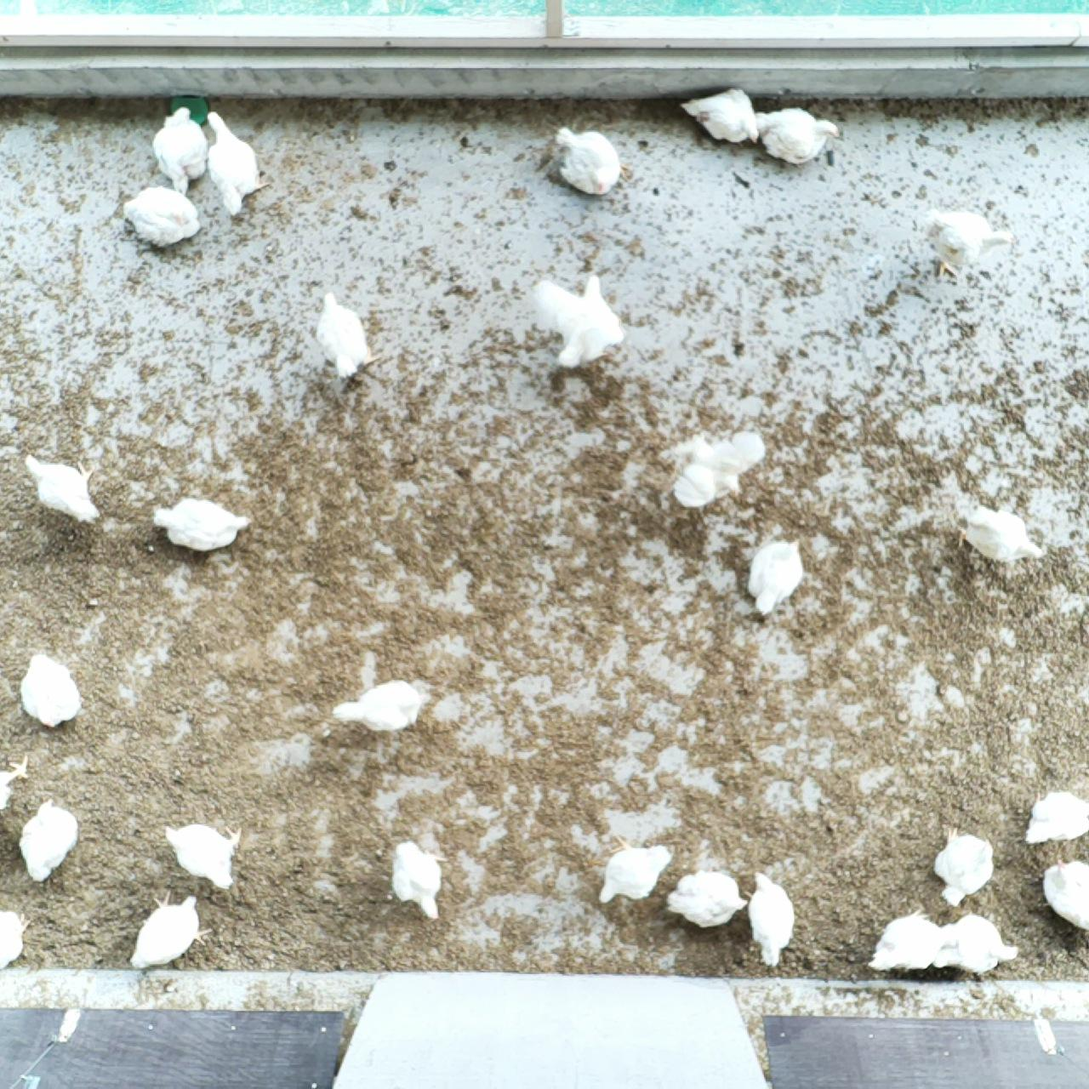chicken: (531, 272, 627, 368), (126, 887, 215, 976), (671, 429, 768, 510), (201, 108, 270, 218), (922, 206, 1018, 281), (152, 494, 256, 557), (313, 290, 384, 382), (554, 123, 637, 198), (22, 450, 103, 526), (952, 502, 1046, 566), (595, 831, 674, 907), (932, 911, 1022, 977), (752, 104, 841, 170), (163, 820, 243, 892), (934, 823, 1000, 910), (151, 104, 209, 201), (332, 677, 433, 732), (743, 869, 799, 968), (866, 908, 946, 977), (121, 184, 203, 250), (18, 797, 80, 884), (388, 838, 450, 924), (18, 650, 83, 730), (744, 536, 807, 618), (664, 869, 747, 931), (679, 86, 762, 148), (1038, 853, 1089, 932), (1022, 786, 1089, 846), (0, 908, 33, 969), (0, 751, 30, 811)
